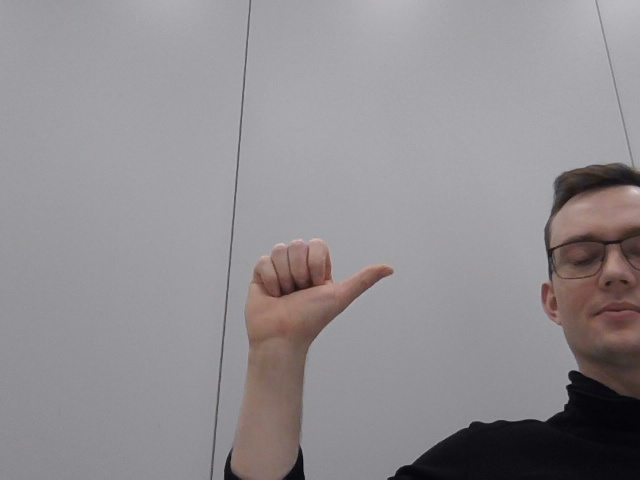left: (228, 222, 407, 374)
